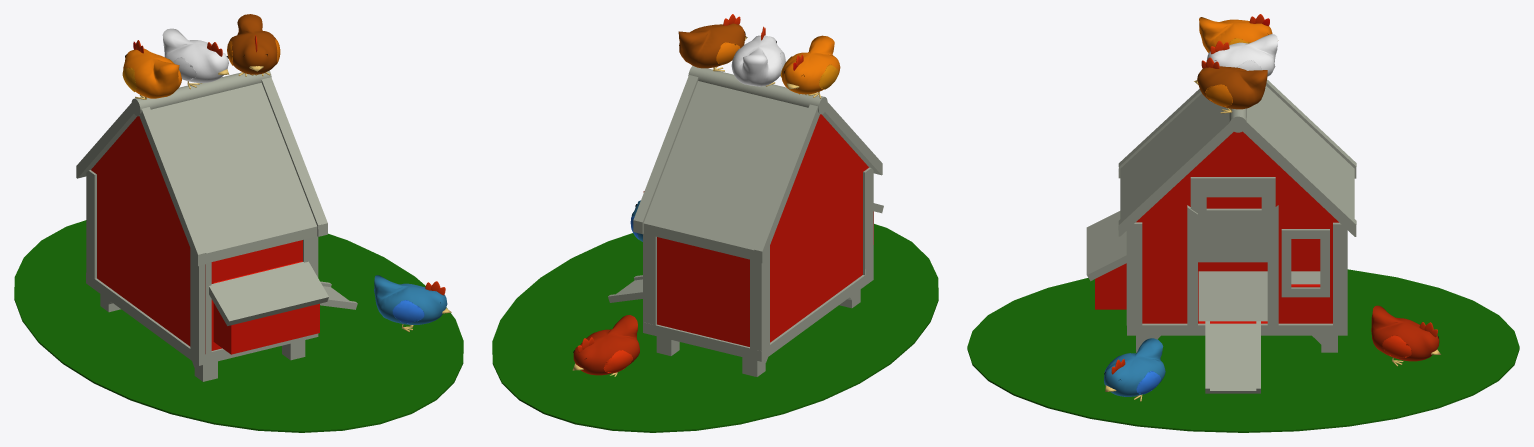
Rendered from galinheiro2.gltf.
The picture shows the model from 3 angles, left to right: view 1: azimuth 30°, elevation 25°; view 2: azimuth 150°, elevation 25°; view 3: azimuth 270°, elevation 25°; orthographic projection. The views are drawn at different scales.
Visible parts, largest first — view 1: chao, telhado, Parede de tras, parede da caixinha, Parte de baixo, galinha_azul, galinha_branca, galinha_laranja, galinha_marrom, rampinha; view 2: chao, telhado, Parede de tras, Parede vazia, Parte de baixo, galinha_vermelha, galinha_marrom, galinha_laranja, galinha_branca, rampinha, Parede frente; view 3: chao, Parede frente, telhado, Parte de baixo, rampinha, parede da caixinha, galinha_vermelha, galinha_marrom, galinha_azul, galinha_branca, galinha_laranja, Parede de tras.
Part boxes in pixels (left/top/right/bottom): chao: left=14, top=220, right=463, bottom=432; telhado: left=76, top=70, right=327, bottom=266; Parede de tras: left=86, top=116, right=205, bottom=355; parede da caixinha: left=205, top=238, right=328, bottom=354; Parte de baixo: left=86, top=273, right=318, bottom=381; galinha_azul: left=374, top=275, right=451, bottom=332; galinha_branca: left=162, top=28, right=229, bottom=89; galinha_laranja: left=122, top=40, right=181, bottom=99; galinha_marrom: left=227, top=14, right=280, bottom=76; rampinha: left=320, top=281, right=357, bottom=309; chao: left=492, top=224, right=938, bottom=432; telhado: left=633, top=66, right=882, bottom=263; Parede de tras: left=758, top=114, right=873, bottom=351; Parede vazia: left=647, top=234, right=757, bottom=349; Parte de baixo: left=643, top=269, right=873, bottom=376; galinha_vermelha: left=572, top=315, right=639, bottom=376; galinha_marrom: left=678, top=14, right=747, bottom=71; galinha_laranja: left=780, top=35, right=840, bottom=98; galinha_branca: left=731, top=26, right=785, bottom=86; rampinha: left=608, top=275, right=642, bottom=302; Parede frente: left=643, top=233, right=647, bottom=322; chao: left=967, top=269, right=1519, bottom=432; Parede frente: left=1126, top=131, right=1347, bottom=331; telhado: left=1118, top=79, right=1356, bottom=236; Parte de baixo: left=1127, top=271, right=1347, bottom=352; rampinha: left=1205, top=321, right=1260, bottom=393; parede da caixinha: left=1086, top=211, right=1126, bottom=309; galinha_vermelha: left=1371, top=305, right=1440, bottom=366; galinha_marrom: left=1194, top=57, right=1267, bottom=113; galinha_azul: left=1104, top=338, right=1165, bottom=401; galinha_branca: left=1206, top=34, right=1277, bottom=76; galinha_laranja: left=1199, top=14, right=1278, bottom=52; Parede de tras: left=1198, top=239, right=1320, bottom=271.
Bounding box in the file's own units: 4.53 × 3.66 × 6.28.
